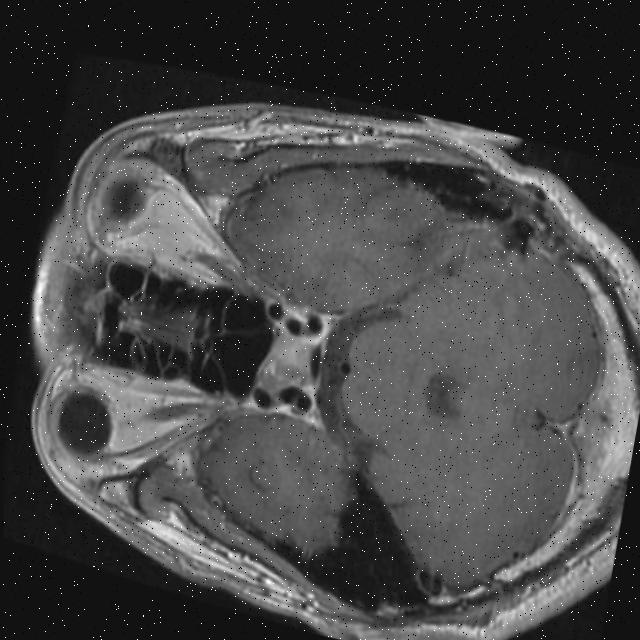Pituitary: (253, 325, 321, 399)
